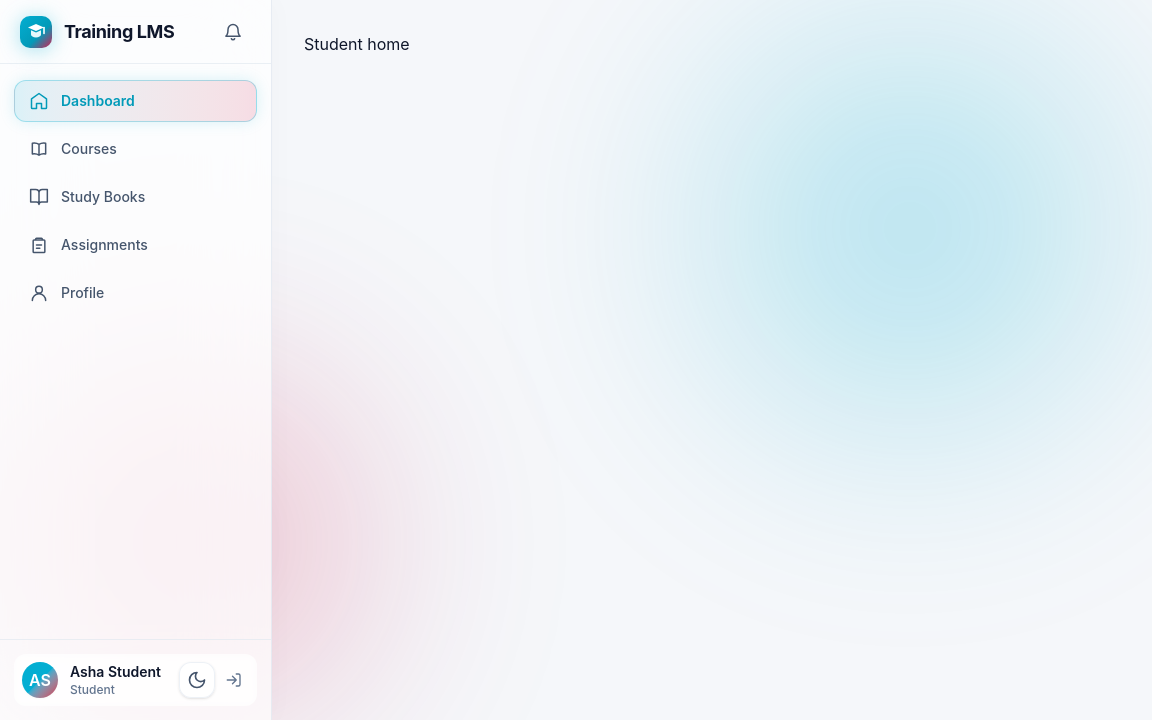
Scenario: notification bell › closes on a click outside
The width and height of the screenshot is (1152, 720).
Click the button named "Notifications".
click(233, 32)  # box 215,14 -> 251,50
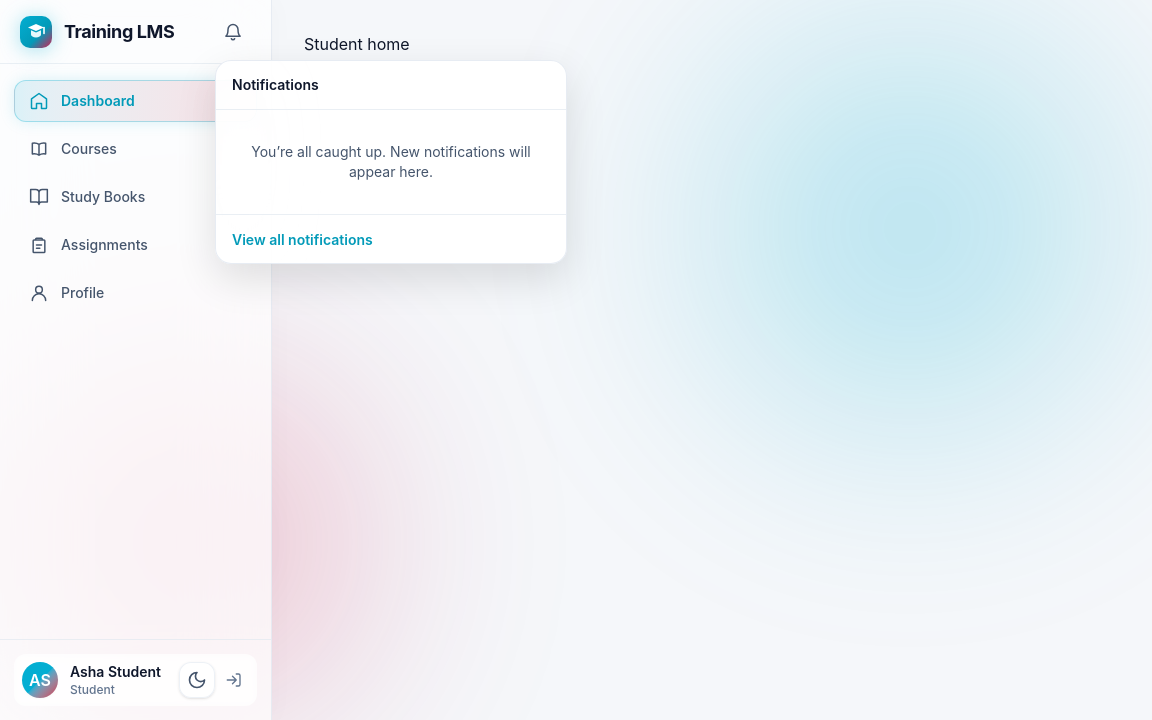
Now the text "You’re all caught up. New notifications will appear here." is shown, box 251,142 -> 531,180
Click the heading "Student home".
click(357, 44)  # box 304,34 -> 410,54
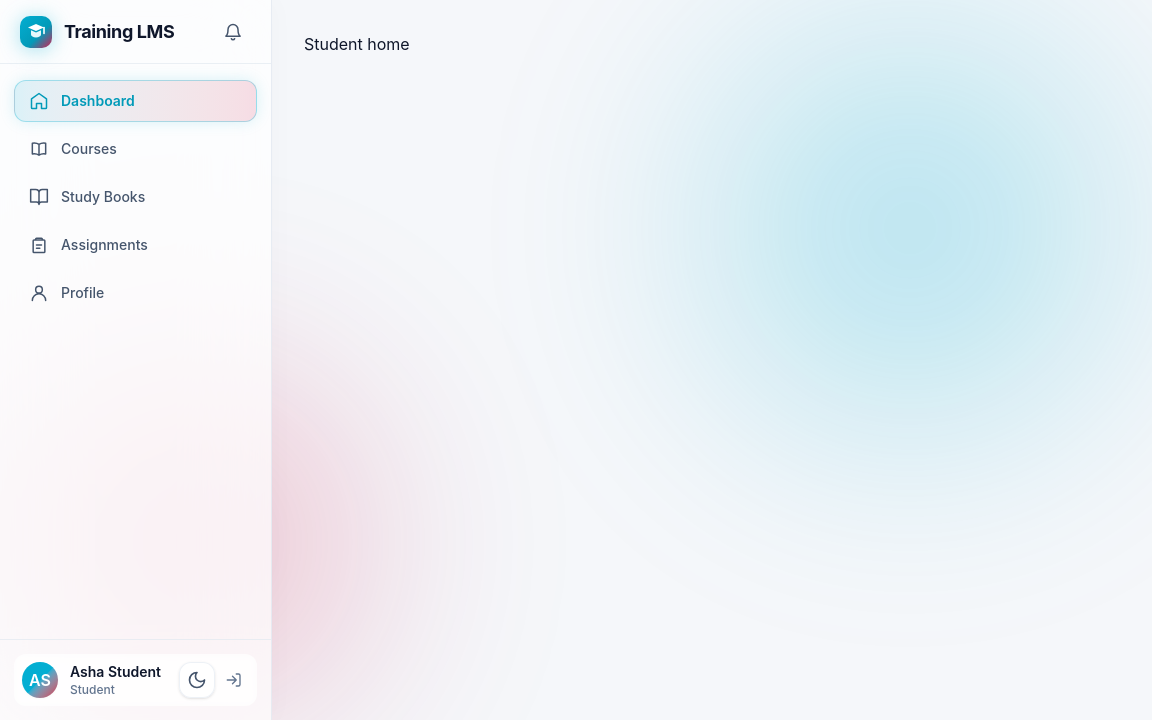
Now the heading "Notifications" is gone
